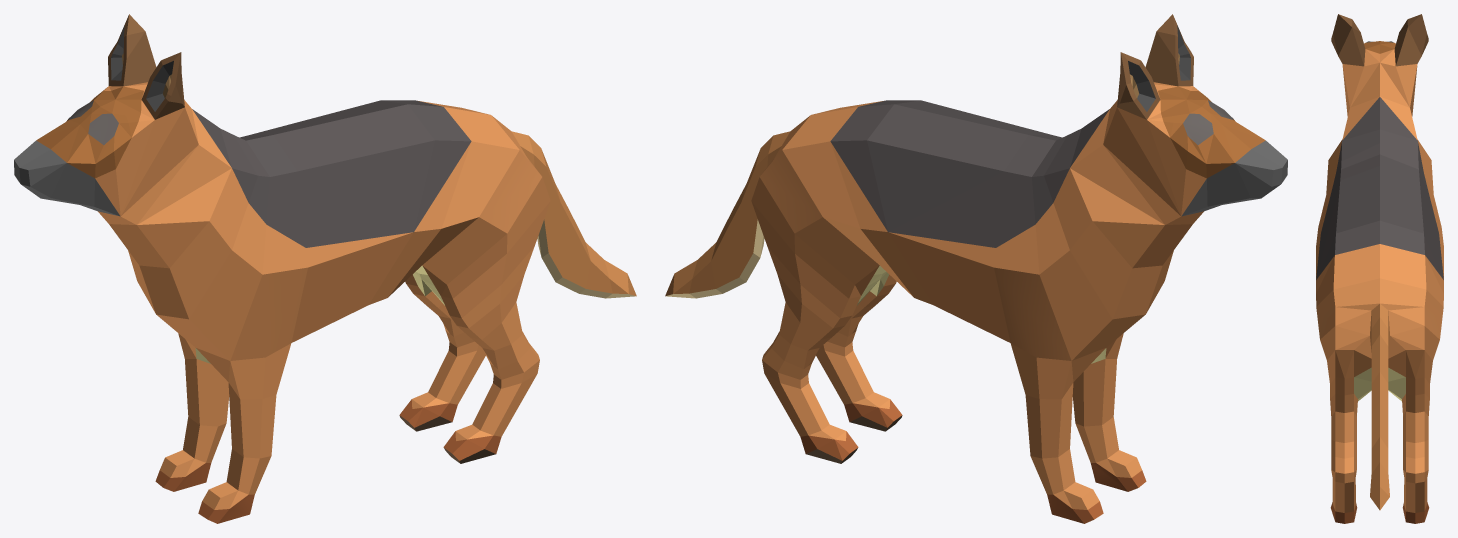
Rendered from dog.glb.
The picture shows the model from 3 angles, left to right: view 1: azimuth 30°, elevation 25°; view 2: azimuth 150°, elevation 25°; view 3: azimuth 270°, elevation 25°; orthographic projection. The views are drawn at different scales.
Parts seen in each view (by area): view 1: dog; view 2: dog; view 3: dog.
Part boxes in pixels (box(x1,y1,x2,y2)): dog: box(14, 14, 636, 523); dog: box(665, 14, 1287, 523); dog: box(1316, 14, 1443, 523).
Size of the model in its own units: 917 by 680 by 204.
